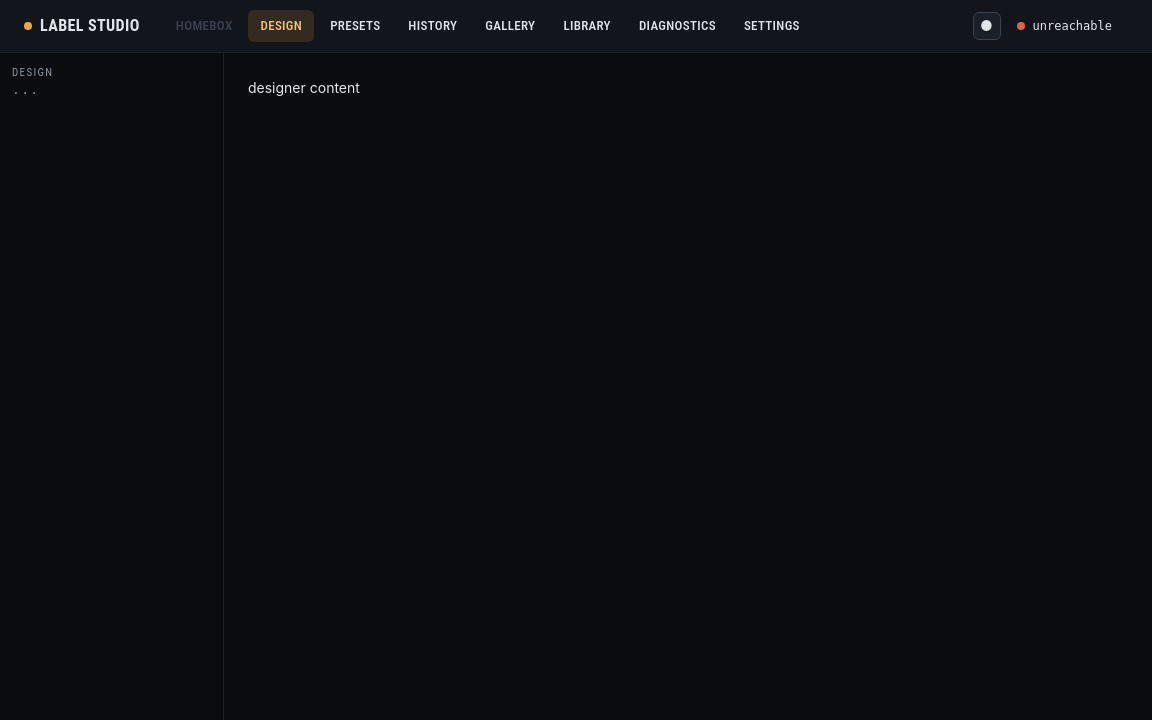
Test case: AppShell -- compact theme control › defaults to announcing Dark, and cycles dark -> light -> system -> dark on repeated clicks
Click the button named "Theme: Dark".
click(986, 26)  # box [972, 12, 1000, 40]
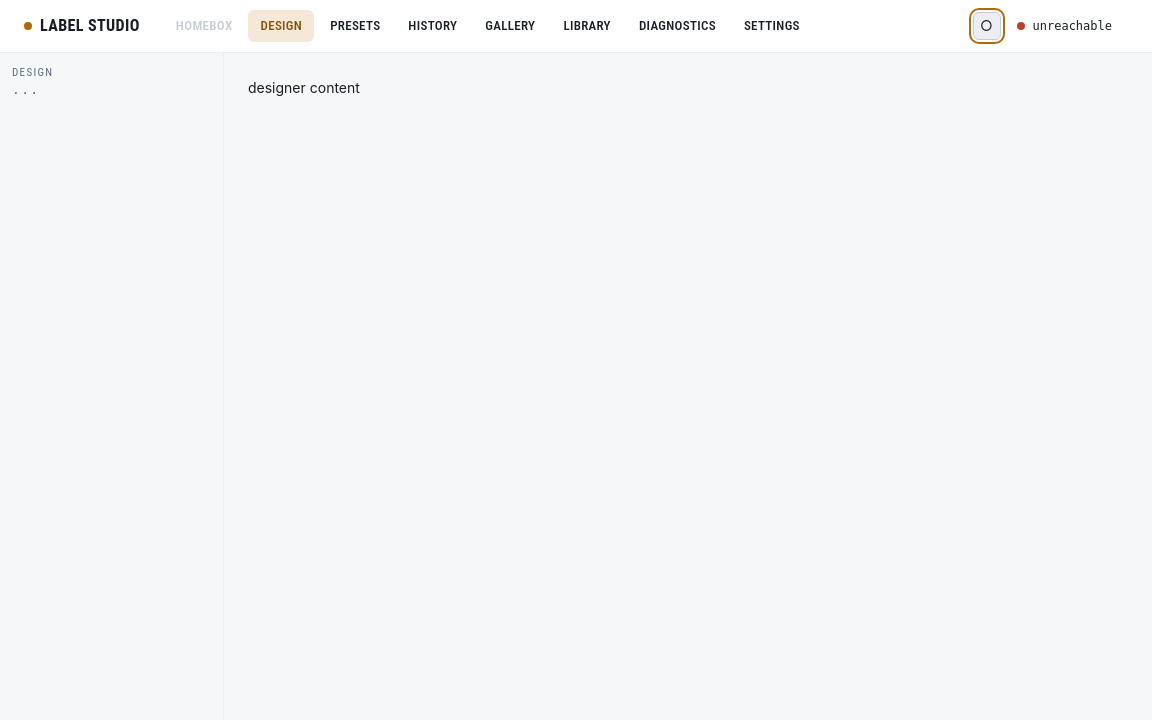
Check: the button named "Theme: Light" is shown
Click the button named "Theme: Light".
click(986, 26)  # box [972, 12, 1000, 40]
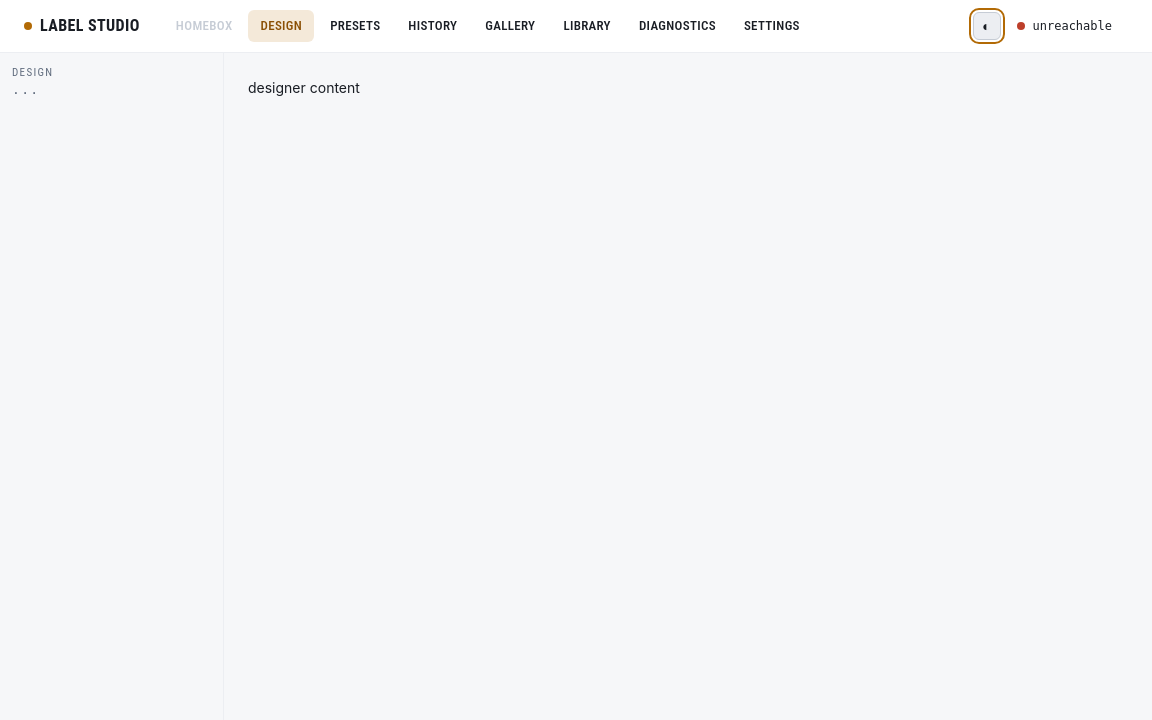
Check: the button named "Theme: System" is shown
Click the button named "Theme: System".
click(986, 26)  # box [972, 12, 1000, 40]
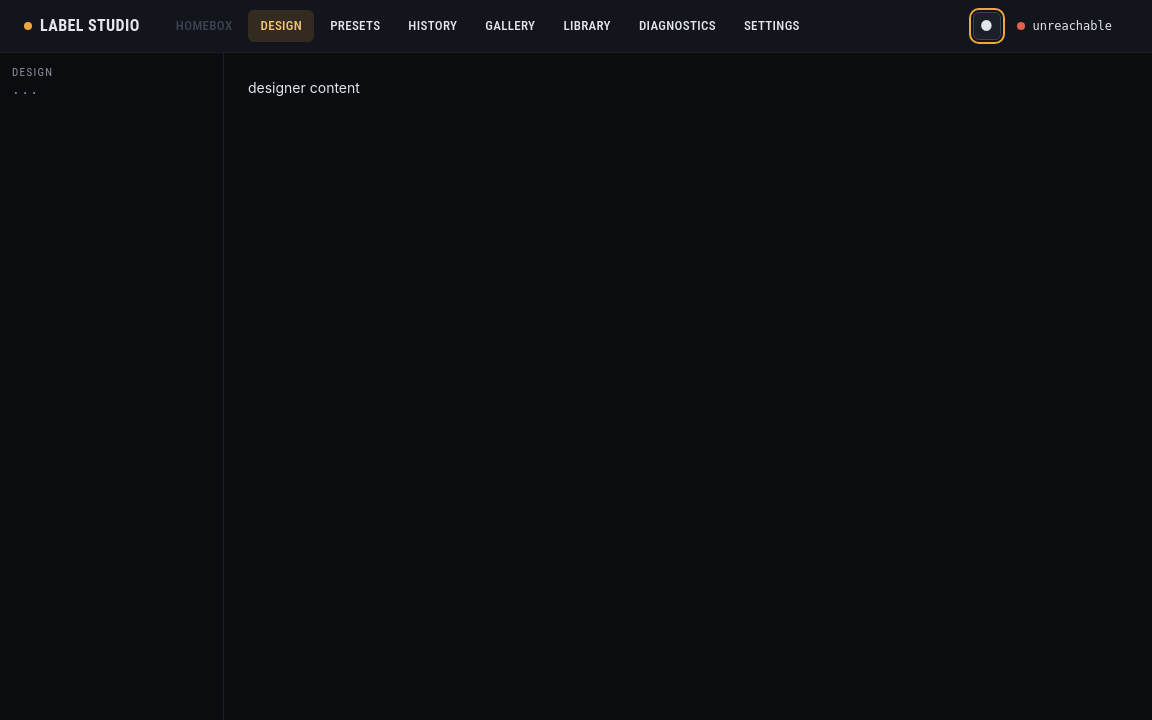
Check: the button named "Theme: Dark" is shown, box [972, 12, 1000, 40]
